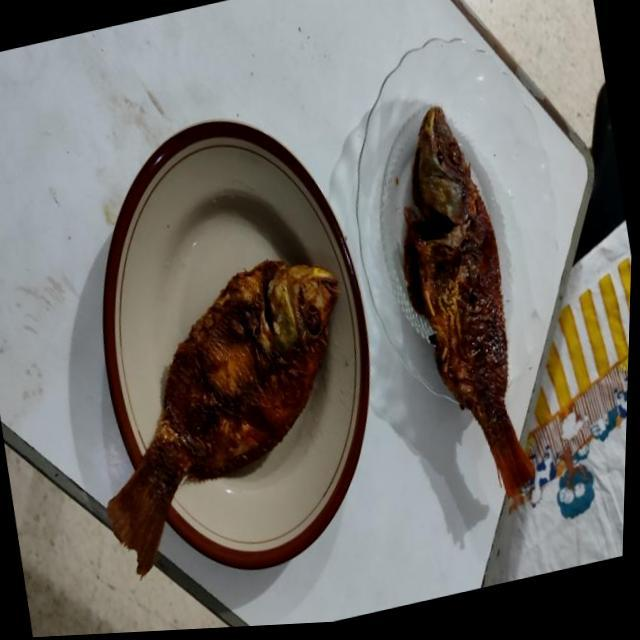ikan_mujair: (108, 259, 340, 576), (404, 106, 534, 500)
